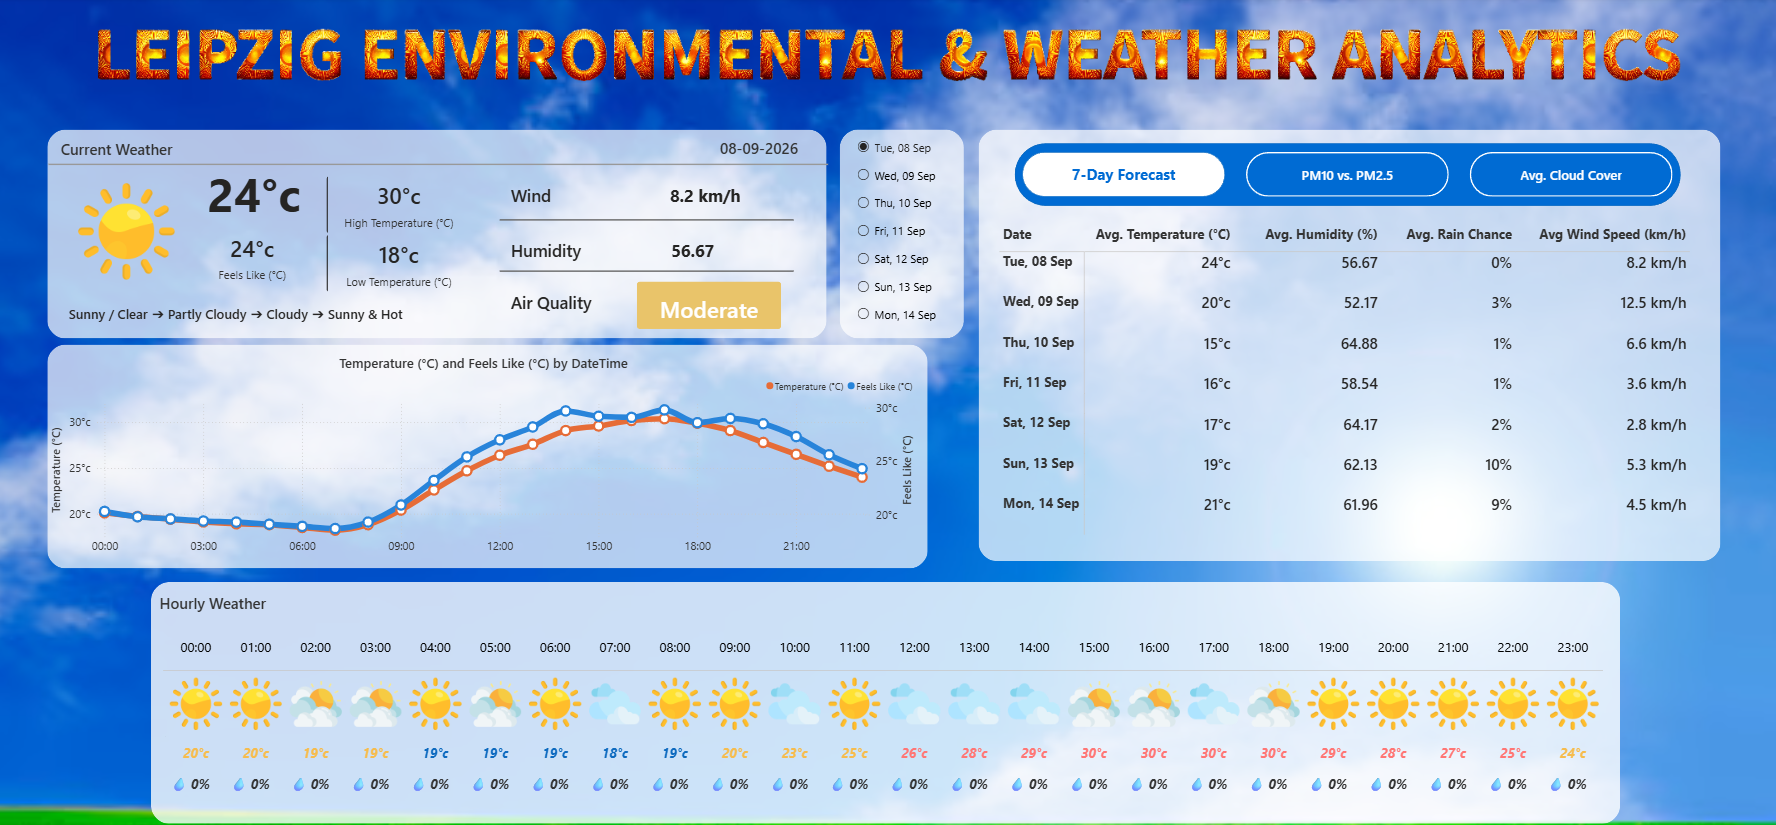

What the dashboard file says about the page in this screenshot:
{"tool":"powerbi","page":{"name":"home","canvas":[2560,1200],"ordinal":0},"visuals":[{"type":"shape","box":[72.9,189.5,1119.6,300.3],"z":0,"group":"g2"},{"type":"shape","box":[1212,190,178.3,300],"z":0,"group":"g4"},{"type":"shape","box":[223.3,840,2110.5,347.4],"z":0,"group":"g1"},{"type":"listSlicer","fields":{"Values":["df.Date"]},"box":[1232,190,170,300],"z":1000,"group":"g4"},{"type":"shape","box":[1412,190,1066,620],"z":1000},{"type":"image","box":[99.7,267.2,174.2,138.3],"z":1000,"group":"g2"},{"type":"pivotTable","fields":{"Values":["df.Weather Icon","Avg(df.Temperature (°C))","df.Rain Chance Display"],"Columns":["df.Hour Label"]},"box":[235.7,905.3,2085.3,270],"z":1000,"group":"g1"},{"type":"cardVisual","fields":{"Data":["Avg(df.Temperature (°C))"]},"box":[273.9,219.7,212.7,124.3],"z":2000,"group":"g2"},{"type":"shape","box":[73.3,500,1265,321.7],"z":2000},{"type":"textbox","box":[230,850,236.7,56.8],"z":2000,"group":"g1"},{"type":"shape","title":"button bg","box":[1463.3,210,956.7,90],"z":3000,"group":"g3"},{"type":"cardVisual","fields":{"Data":["Avg(df.Feels Like (°C))"]},"box":[288.1,320,158,108.3],"z":3000,"group":"g2"},{"type":"lineChart","fields":{"Category":["df.DateTime"],"Y":["Avg(df.Temperature (°C))"],"Y2":["Avg(df.Feels Like (°C))"]},"box":[73.3,513.3,1253.3,296.7],"z":3000},{"type":"pivotTable","title":"table","fields":{"Values":["Avg(df.Temperature (°C))","Avg(df.Humidity (%))","Avg(df.Rain_Chance)","Avg(df.Wind Speed (km/h))"],"Rows":["df.Date"]},"box":[1437.5,322.5,1010,462.5],"z":4000,"group":"g3"},{"type":"cardVisual","fields":{"Data":["df.Daily Weather Summary"]},"box":[74,418,650,72],"z":4000,"group":"g2"},{"type":"group","id":"g1","title":"hourly forecast card","box":[223.3,840,2110.5,347.4],"z":4000},{"type":"group","id":"g2","title":"overview card","box":[72.9,185,1127.1,305],"z":5000},{"type":"textbox","box":[734,264.5,113.1,53.5],"z":5000,"group":"g2"},{"type":"group","id":"g3","title":"table grp","box":[1437,210,1010.5,575],"z":6000},{"type":"shape","title":"pm10 vs pm2.5 btn-in active","box":[1795.7,222.9,291.4,64.3],"z":6000,"group":"g3"},{"type":"textbox","box":[734,342.7,128.3,50.1],"z":6000,"group":"g2"},{"type":"cardVisual","fields":{"Data":["df.Selected Date Display"]},"box":[990,185,210,60],"z":7000,"group":"g2"},{"type":"group","id":"g4","title":"Group 1","box":[1212,190,190,300],"z":7000},{"type":"shape","title":"avg cloud cover btn-in active","box":[2117.1,222.9,291.4,64.3],"z":7000,"group":"g3"},{"type":"image","box":[128.3,26.2,2291.8,157],"z":8000},{"type":"shape","title":"7-day btn-active","box":[1474.3,222.9,291.4,64.3],"z":8000,"group":"g3"},{"type":"textbox","box":[733.4,418.1,160,44.3],"z":8000,"group":"g2"},{"type":"cardVisual","fields":{"Data":["Avg(df.Wind Speed (km/h))"]},"box":[939.3,242.5,253.2,83.5],"z":9000,"group":"g2"},{"type":"cardVisual","fields":{"Data":["Avg(df.Humidity (%))"]},"box":[940.2,322.2,168.8,83.5],"z":10000,"group":"g2"},{"type":"cardVisual","fields":{"Data":["df.Aqi condition display"]},"box":[915.7,403.2,217.8,78.5],"z":11000,"group":"g2"},{"type":"shape","box":[723.8,376.5,422.1,33.4],"z":12000,"group":"g2"},{"type":"shape","box":[723.8,303,422.1,33.4],"z":13000,"group":"g2"},{"type":"textbox","box":[87.5,198.7,238.8,54.4],"z":14000,"group":"g2"},{"type":"shape","box":[74,226.4,1120,28.4],"z":15000,"group":"g2"},{"type":"cardVisual","fields":{"Data":["Max(df.Temperature (°C))1","Min(df.Temperature (°C))"]},"box":[458,240,242,200],"z":16000,"group":"g2"}]}

Visuals, with their boxes in screenshot pixels (x1, y1, x2, y2), scaled from the page's 2560x1200 canvas onto the 1776x825 screenshot:
shape: pyautogui.locateOnScreen(51, 130, 827, 337)
shape: pyautogui.locateOnScreen(841, 131, 965, 337)
shape: pyautogui.locateOnScreen(155, 578, 1619, 816)
listSlicer - df.Date: pyautogui.locateOnScreen(855, 131, 973, 337)
shape: pyautogui.locateOnScreen(980, 131, 1719, 557)
image: pyautogui.locateOnScreen(69, 184, 190, 279)
pivotTable - df.Weather Icon x Avg(df.Temperature (°C)): pyautogui.locateOnScreen(164, 622, 1610, 808)
cardVisual - Avg(df.Temperature (°C)): pyautogui.locateOnScreen(190, 151, 338, 236)
shape: pyautogui.locateOnScreen(51, 344, 928, 565)
textbox: pyautogui.locateOnScreen(160, 584, 324, 623)
"button bg" shape: pyautogui.locateOnScreen(1015, 144, 1679, 206)
cardVisual - Avg(df.Feels Like (°C)): pyautogui.locateOnScreen(200, 220, 309, 294)
lineChart - df.DateTime x Avg(df.Temperature (°C)): pyautogui.locateOnScreen(51, 353, 920, 557)
"table" pivotTable: pyautogui.locateOnScreen(997, 222, 1698, 540)
cardVisual - df.Daily Weather Summary: pyautogui.locateOnScreen(51, 287, 502, 337)
"hourly forecast card" group: pyautogui.locateOnScreen(155, 578, 1619, 816)
"overview card" group: pyautogui.locateOnScreen(51, 127, 832, 337)
textbox: pyautogui.locateOnScreen(509, 182, 588, 219)
"table grp" group: pyautogui.locateOnScreen(997, 144, 1698, 540)
"pm10 vs pm2.5 btn-in active" shape: pyautogui.locateOnScreen(1246, 153, 1448, 197)
textbox: pyautogui.locateOnScreen(509, 236, 598, 270)
cardVisual - df.Selected Date Display: pyautogui.locateOnScreen(687, 127, 832, 168)
"Group 1" group: pyautogui.locateOnScreen(841, 131, 973, 337)
"avg cloud cover btn-in active" shape: pyautogui.locateOnScreen(1469, 153, 1671, 197)
image: pyautogui.locateOnScreen(89, 18, 1679, 126)
"7-day btn-active" shape: pyautogui.locateOnScreen(1023, 153, 1225, 197)
textbox: pyautogui.locateOnScreen(509, 287, 620, 318)
cardVisual - Avg(df.Wind Speed (km/h)): pyautogui.locateOnScreen(652, 167, 827, 224)
cardVisual - Avg(df.Humidity (%)): pyautogui.locateOnScreen(652, 222, 769, 279)
cardVisual - df.Aqi condition display: pyautogui.locateOnScreen(635, 277, 786, 331)
shape: pyautogui.locateOnScreen(502, 259, 795, 282)
shape: pyautogui.locateOnScreen(502, 208, 795, 231)
textbox: pyautogui.locateOnScreen(61, 137, 226, 174)
shape: pyautogui.locateOnScreen(51, 156, 828, 175)
cardVisual - Max(df.Temperature (°C))1 x Min(df.Temperature (°C)): pyautogui.locateOnScreen(318, 165, 486, 302)
